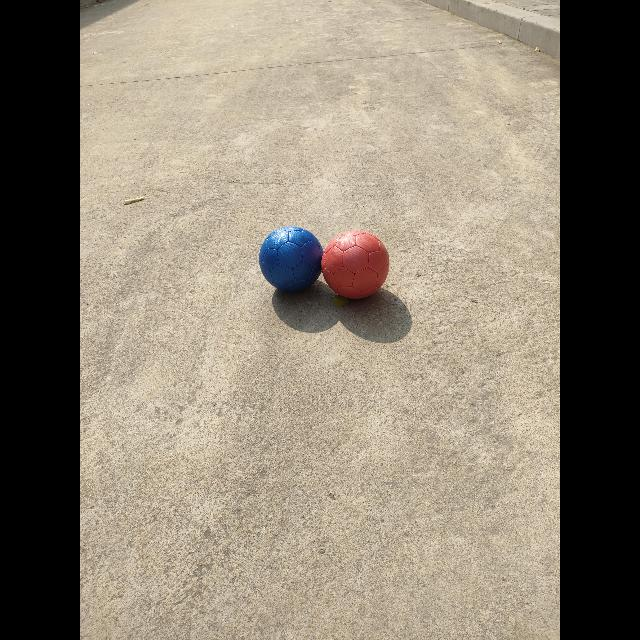B: (259, 226, 322, 291)
R: (321, 230, 389, 299)
